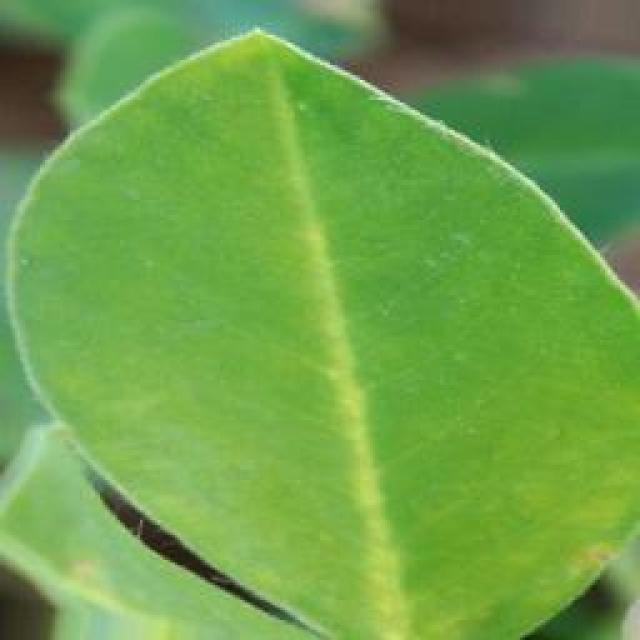Yellow_and_black_sigatoka: (10, 29, 640, 635)
